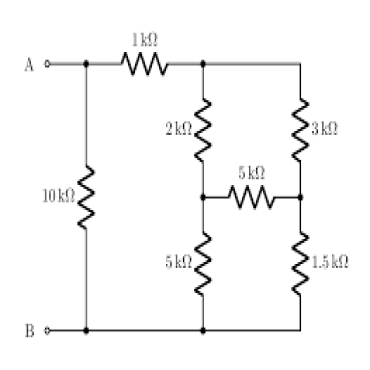Resistor: (290, 230, 349, 295), (42, 164, 96, 232), (291, 97, 341, 165), (165, 231, 213, 299), (166, 96, 213, 164), (227, 164, 274, 210), (122, 32, 169, 77)
